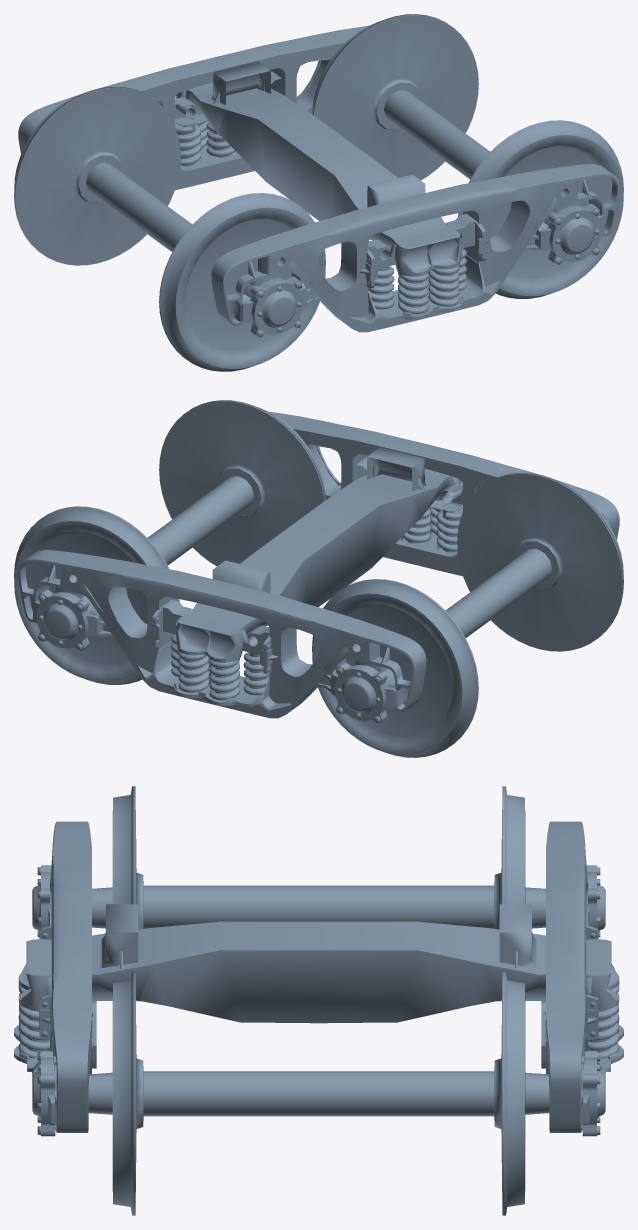
The picture shows the model from 3 angles, top to bottom: view 1: azimuth 30°, elevation 25°; view 2: azimuth 150°, elevation 25°; view 3: azimuth 270°, elevation 25°; orthographic projection. The views are drawn at different scales.
Visible parts, largest first — view 1: rama, wheels_b, wheels_a; view 2: rama, wheels_b, wheels_a; view 3: rama, wheels_a, wheels_b.
Part boxes in pixels (bbox=[...]): rama: bbox=[18, 25, 619, 337]; wheels_b: bbox=[14, 87, 325, 371]; wheels_a: bbox=[312, 14, 623, 298]; rama: bbox=[18, 411, 619, 723]; wheels_b: bbox=[312, 473, 623, 757]; wheels_a: bbox=[14, 400, 325, 684]; rama: bbox=[14, 821, 623, 1136]; wheels_a: bbox=[88, 972, 549, 1215]; wheels_b: bbox=[92, 786, 545, 929].
Bounding box in the file's own units: 274 × 97.86 × 245.
